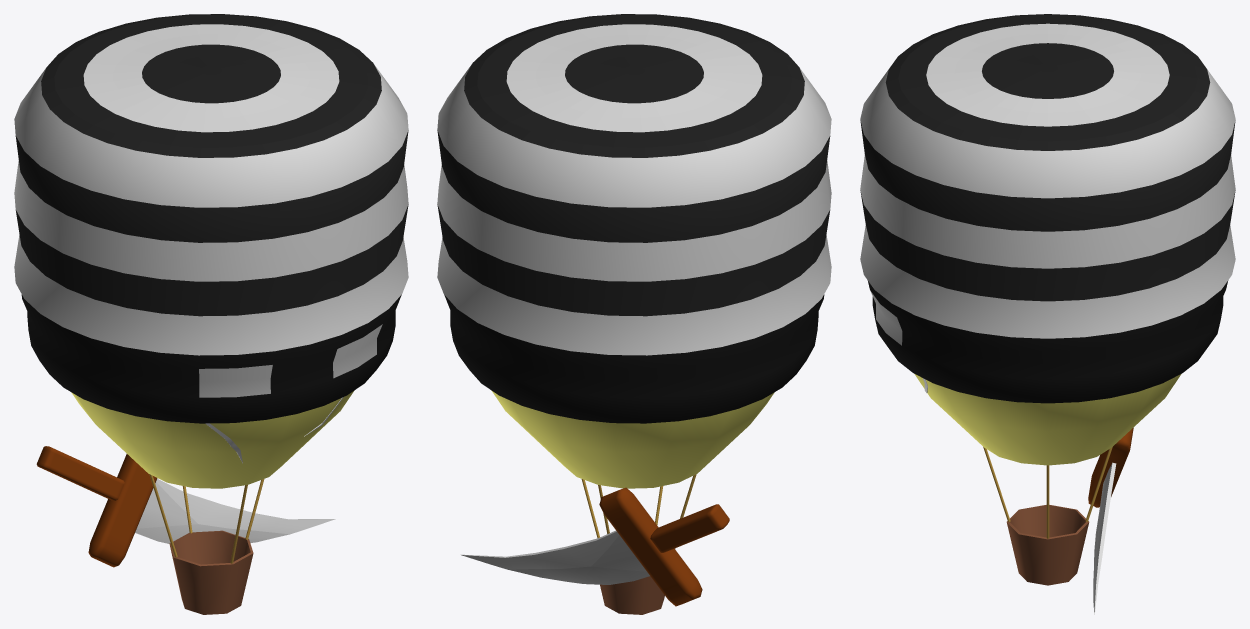
Rendered from Lv5_FB_Sneaker.FBX.
3 views of the same model, side by side, from view 1: azimuth 30°, elevation 25°; view 2: azimuth 150°, elevation 25°; view 3: azimuth 270°, elevation 25° (orthographic). The views are drawn at different scales.
Visible parts, largest first — view 1: Cylinder002, Cylinder003, Sphere001, Cylinder001, Plane001, Box002, Box001, Line003; view 2: Cylinder002, Cylinder003, Sphere001, Plane001, Box002, Box001, Cylinder001, Line003; view 3: Cylinder002, Cylinder003, Sphere001, Cylinder001, Box002, Plane001, Line003.
Boxes of the visible parts, box(x1,y1,x2,y2) form: Cylinder002: box(14, 14, 408, 355); Cylinder003: box(21, 294, 401, 423); Sphere001: box(71, 390, 354, 488); Cylinder001: box(169, 530, 253, 614); Plane001: box(135, 479, 335, 543); Box002: box(88, 454, 157, 567); Box001: box(36, 446, 124, 500); Line003: box(149, 474, 264, 563); Cylinder002: box(437, 14, 831, 355); Cylinder003: box(444, 294, 824, 423); Sphere001: box(491, 390, 774, 488); Plane001: box(460, 530, 649, 584); Box002: box(599, 487, 702, 606); Box001: box(650, 504, 729, 552); Cylinder001: box(600, 548, 675, 614); Line003: box(581, 474, 696, 538); Cylinder002: box(860, 14, 1235, 338); Cylinder003: box(867, 280, 1228, 403); Sphere001: box(914, 374, 1181, 465); Cylinder001: box(1006, 505, 1089, 585); Box002: box(1088, 428, 1133, 507); Plane001: box(1093, 462, 1116, 614); Line003: box(983, 447, 1112, 538).
Size of the model in its own units: 136 by 202 by 136.
